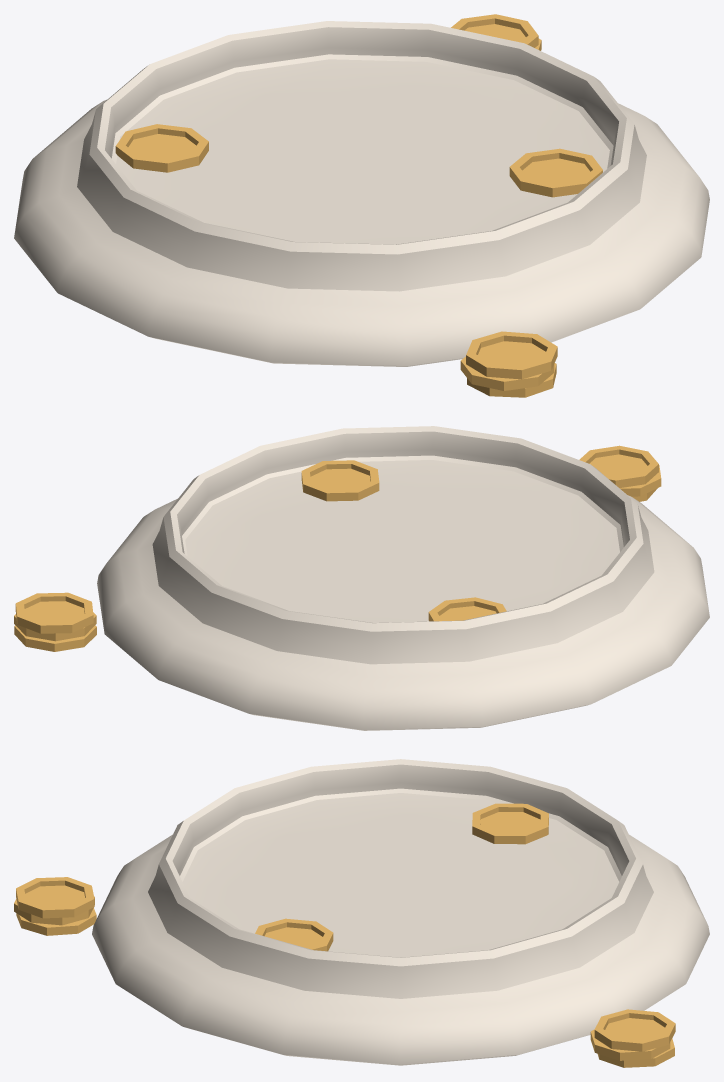
File: gold_Platform003.fbx
The picture shows the model from 3 angles, top to bottom: view 1: azimuth 30°, elevation 25°; view 2: azimuth 150°, elevation 25°; view 3: azimuth 270°, elevation 25°; orthographic projection. The views are drawn at different scales.
Parts seen in each view (by area): view 1: Gold.002; view 2: Gold.002; view 3: Gold.002.
Boxes of the visible parts, box(x1,y1,x2,y2) form: Gold.002: box(14, 14, 709, 397); Gold.002: box(14, 426, 709, 730); Gold.002: box(14, 759, 709, 1067).
Size of the model in its own units: 227 by 33.44 by 256.
